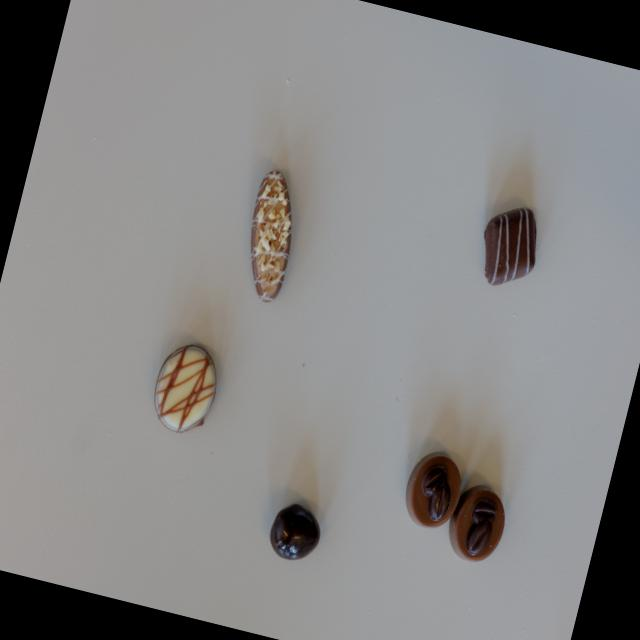Amandina: (232, 167, 308, 306)
Arabia: (398, 446, 470, 536), (444, 481, 513, 568)
Creme_brulee: (145, 338, 227, 439)
Jelly_Black: (264, 501, 326, 566)
Stracciatella: (472, 198, 548, 296)
